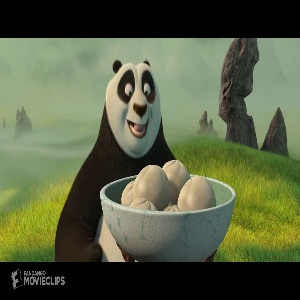po: (54, 57, 193, 262)
